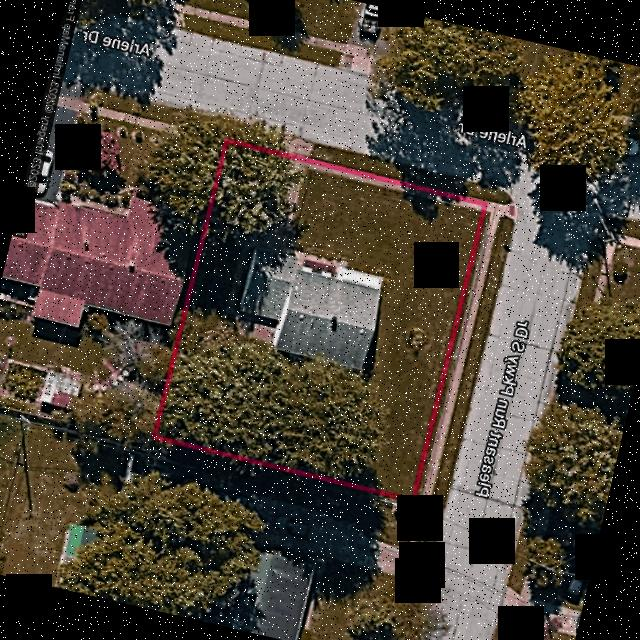Driveway: (255, 156, 306, 243)
Extra Driveway: (288, 135, 312, 155)
Extra Lawn: (432, 209, 515, 505), (312, 144, 510, 203)
House: (239, 242, 382, 369)
